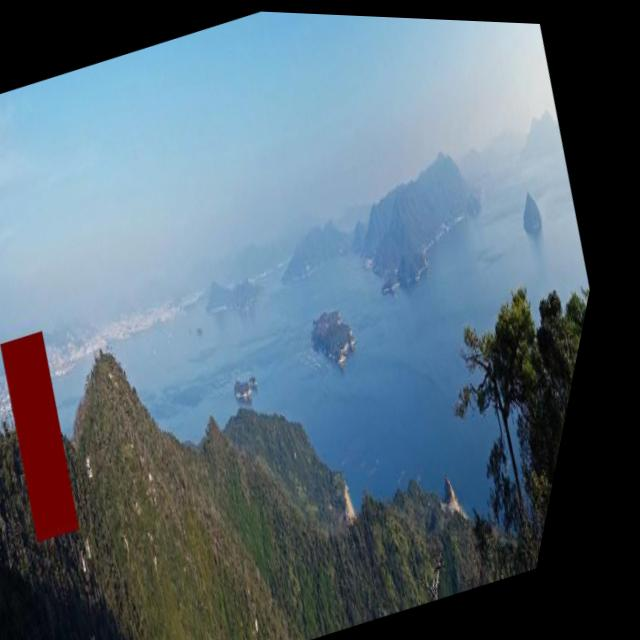RedSquare: (0, 301, 143, 558)
